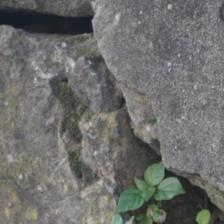Crack: (1, 1, 99, 43)
